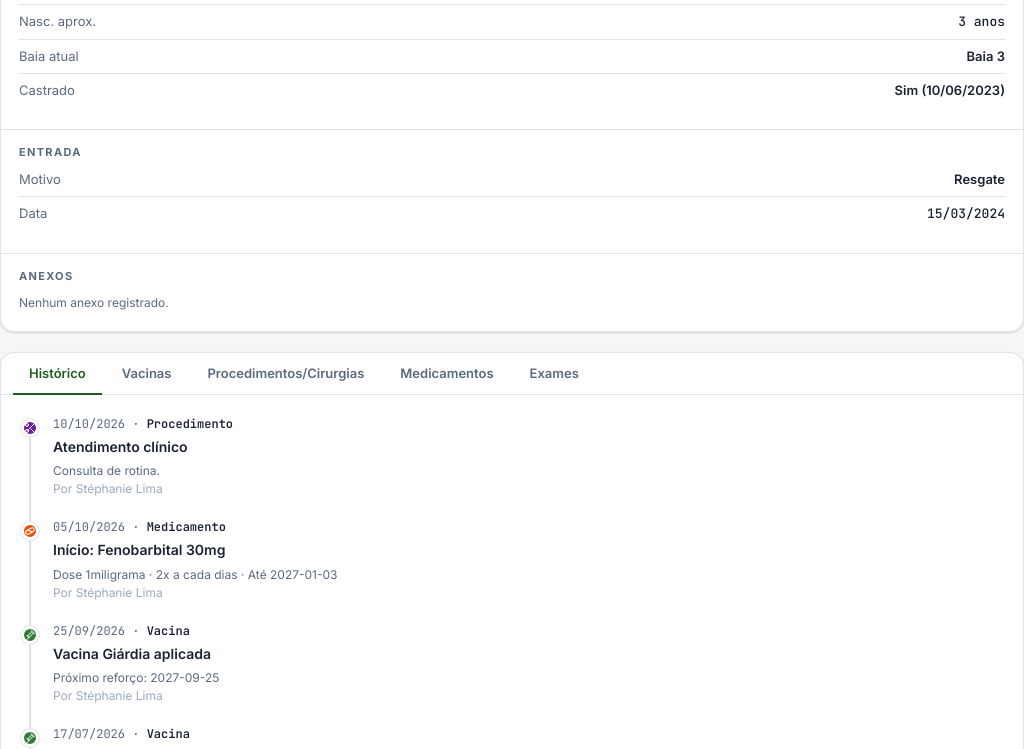
Test: AbaExames › agente sanitário (só leitura) não vê o botão de registrar exame
(page scrolled)
Click the tab "Exames". click: (554, 374)
box: top-left (514, 352), bottom-right (595, 394)
(page scrolled)
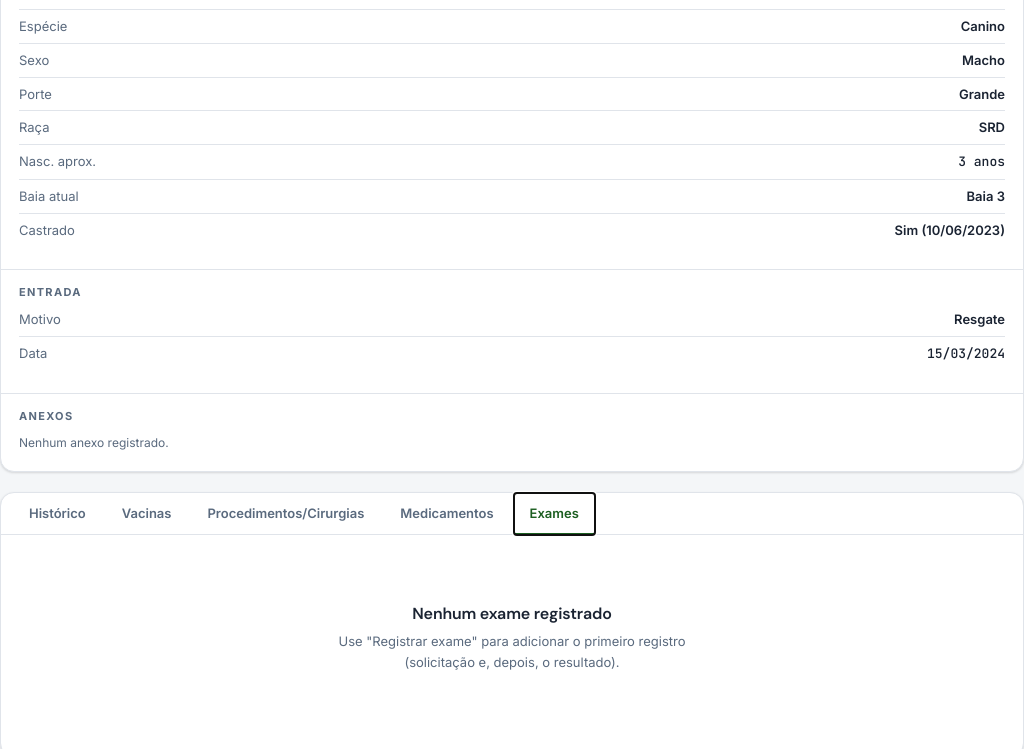
Now the heading "Nenhum exame registrado" is shown, box top-left (412, 602), bottom-right (612, 625)
